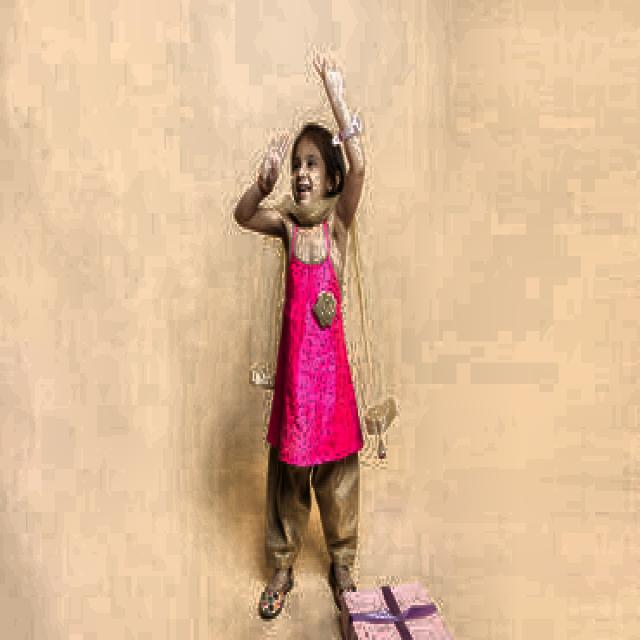Human: (232, 49, 394, 616)
